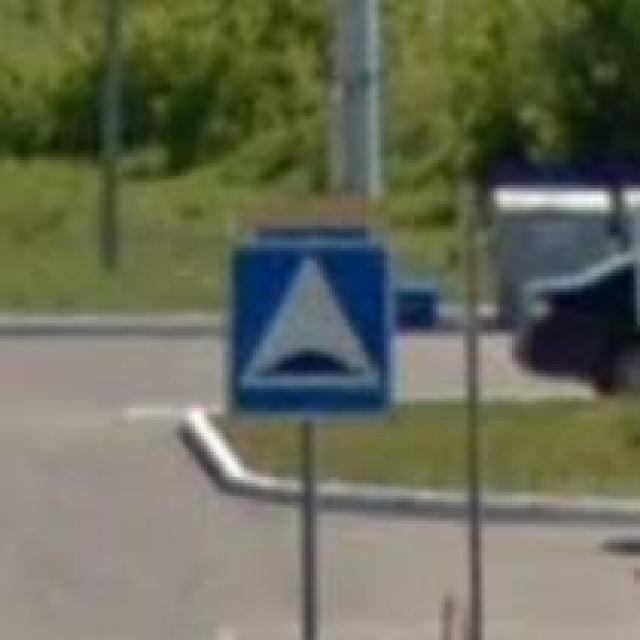traffic_sign: (220, 232, 400, 424)
